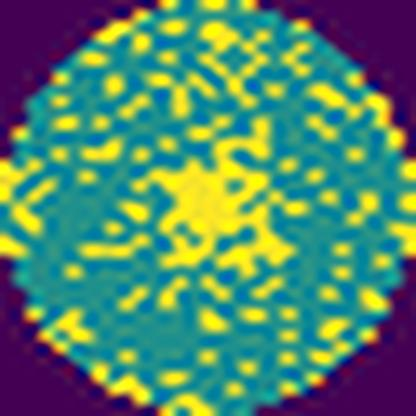Center: (134, 119, 314, 281)
